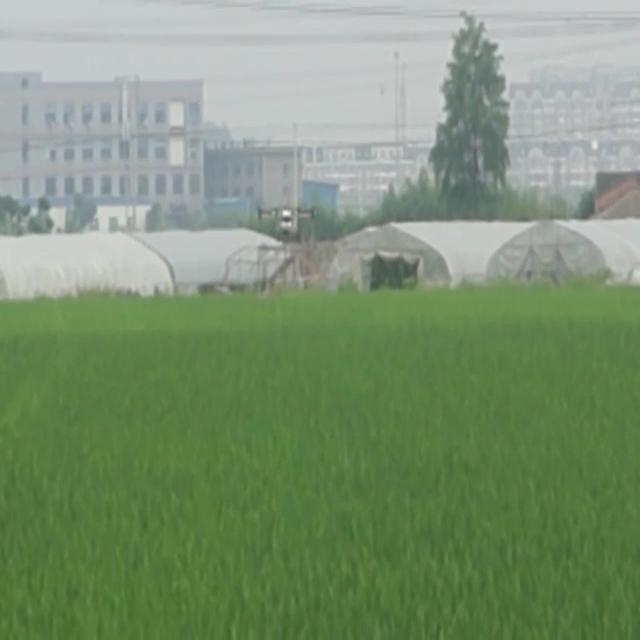drone: (256, 203, 320, 240)
